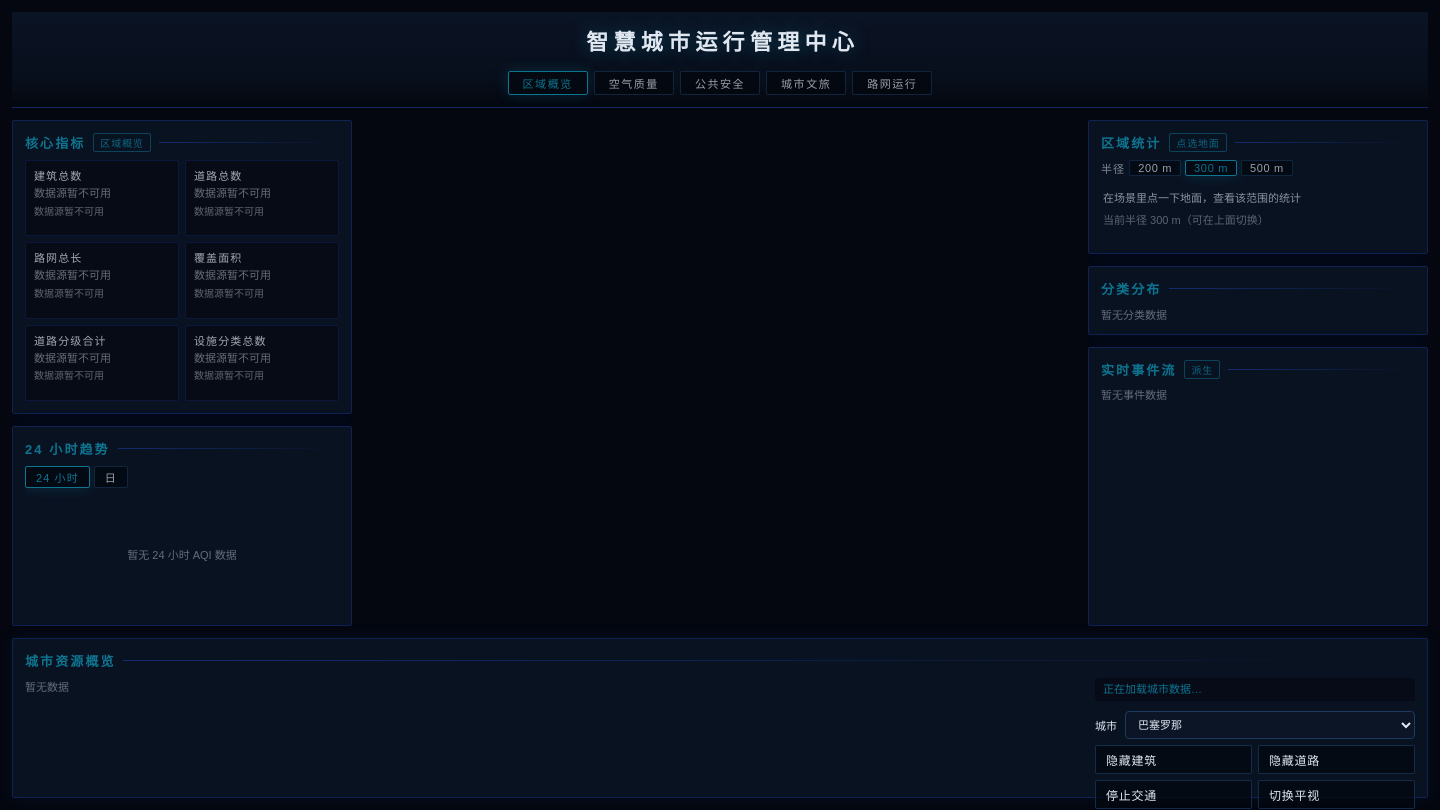
Test: SmartCity behaviour › drives the toggles from the control-panel buttons
Click the button "隐藏建筑" at (1174, 760), box [1095, 745, 1252, 774]
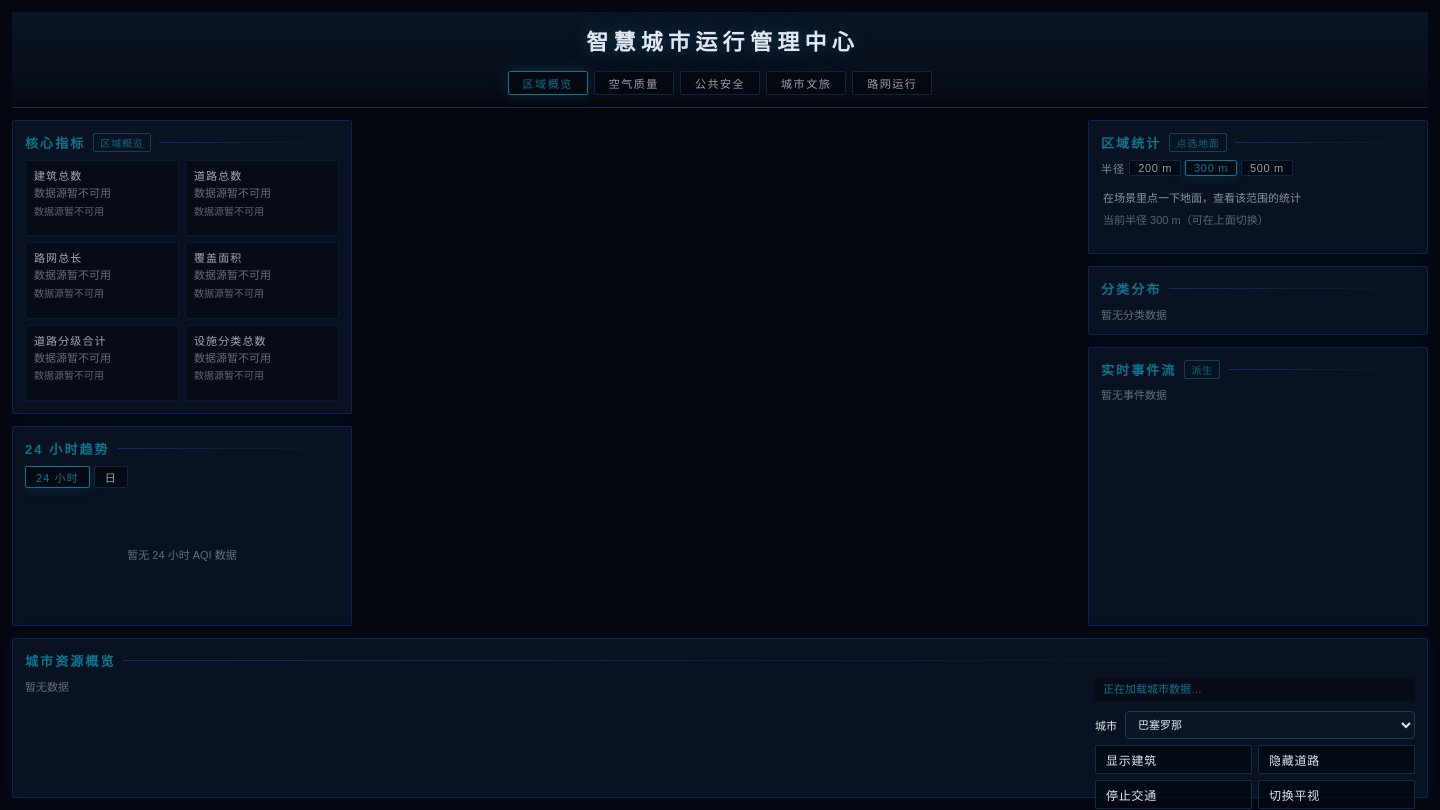
Check: the button "显示建筑" is shown, box [1095, 745, 1252, 774]
Click the button "隐藏道路" at (1336, 760), box [1258, 745, 1415, 774]
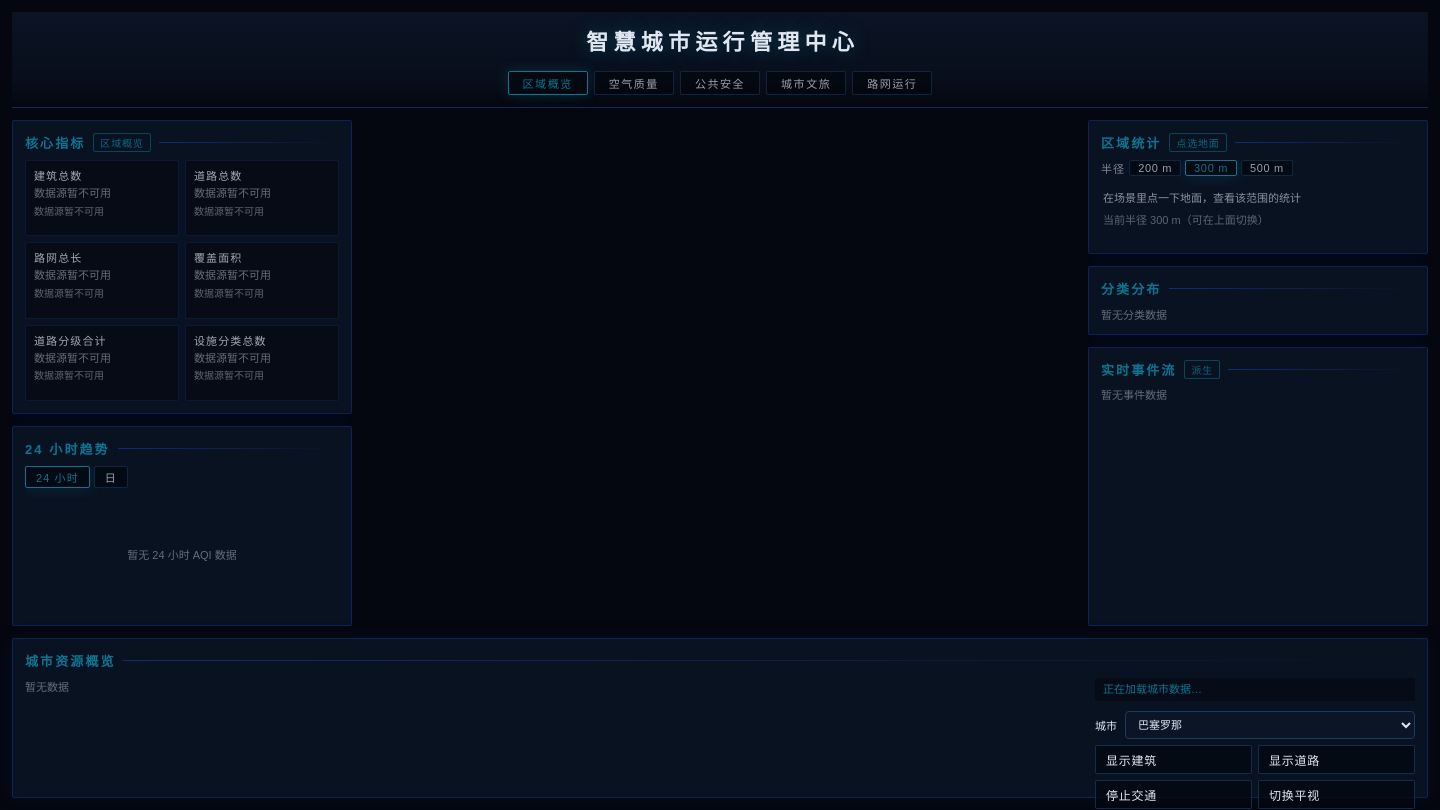
Check: the button "显示道路" is shown, box [1258, 745, 1415, 774]
Click the button "停止交通" at (1174, 795), box [1095, 780, 1252, 809]
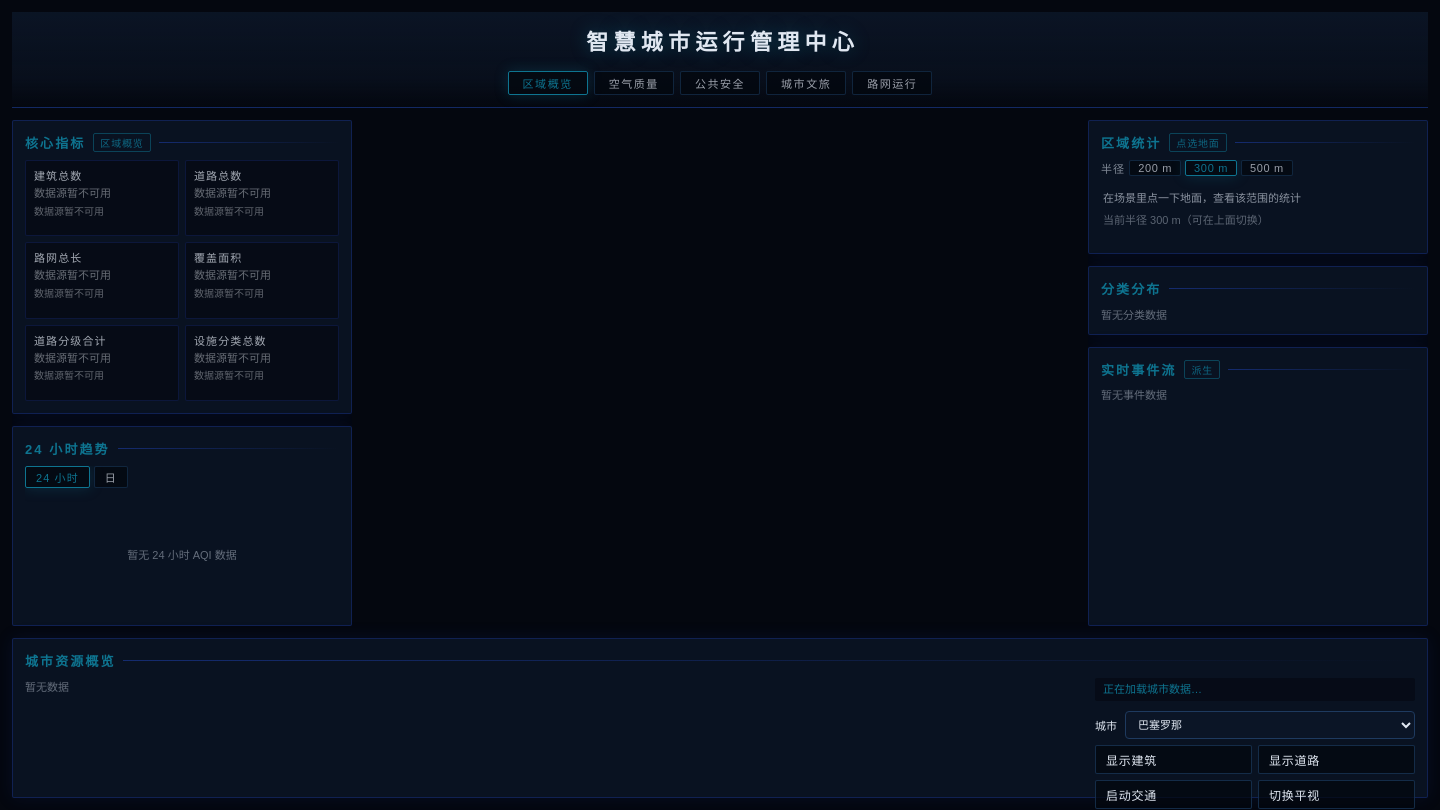
Check: the button "启动交通" is shown, box [1095, 780, 1252, 809]
Click the button "切换平视" at (1336, 795), box [1258, 780, 1415, 809]
(page scrolled)
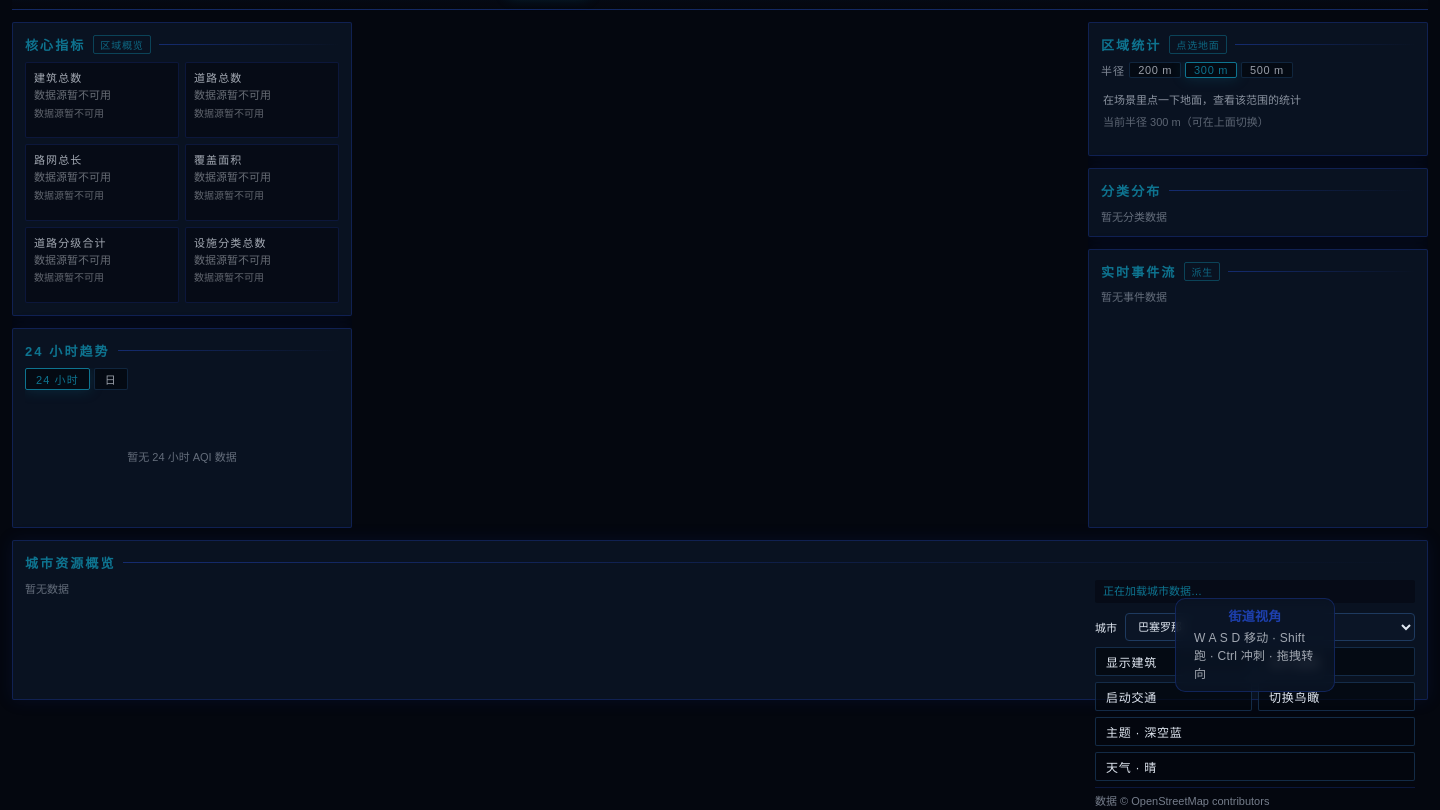
Check: the button "切换鸟瞰" is shown, box [1258, 682, 1415, 711]
Check: the button "主题 · 深空蓝" is shown
Click the button "主题 · 深空蓝" at (1144, 733), box [1095, 717, 1415, 746]
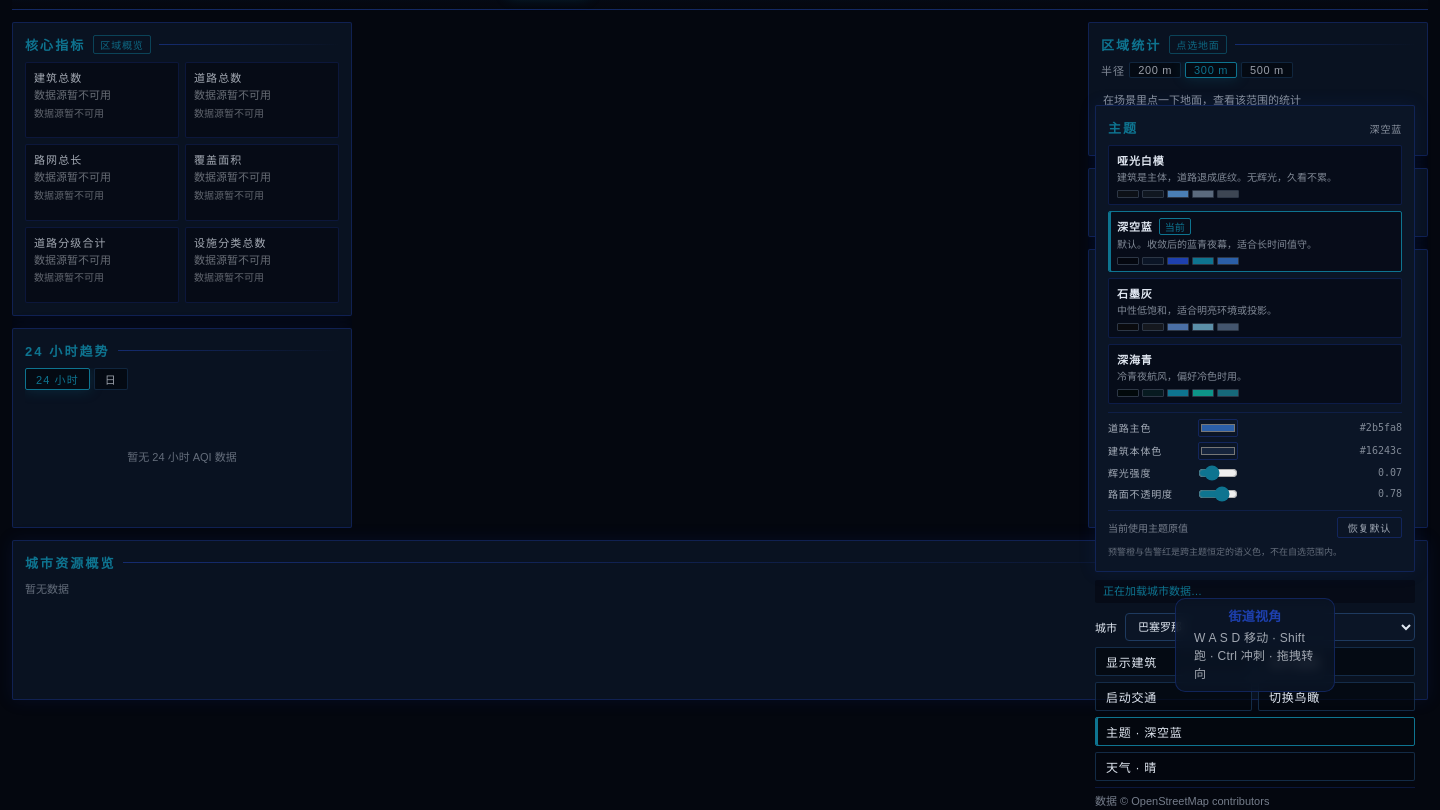
Check: the element with class "dc-theme-picker" is shown, box [1095, 104, 1415, 572]
